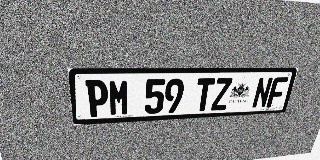5: (145, 79, 165, 114)
9: (164, 78, 185, 113)
F: (266, 77, 289, 108)
M: (108, 79, 129, 116)
N: (251, 77, 274, 108)
P: (85, 80, 109, 117)
T: (194, 78, 215, 112)
Z: (211, 78, 233, 111)
